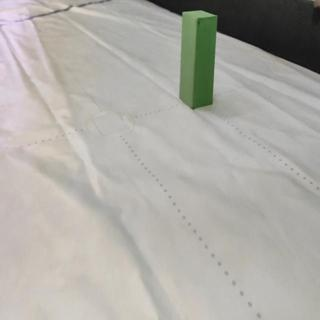greenbox: (177, 10, 218, 112)
